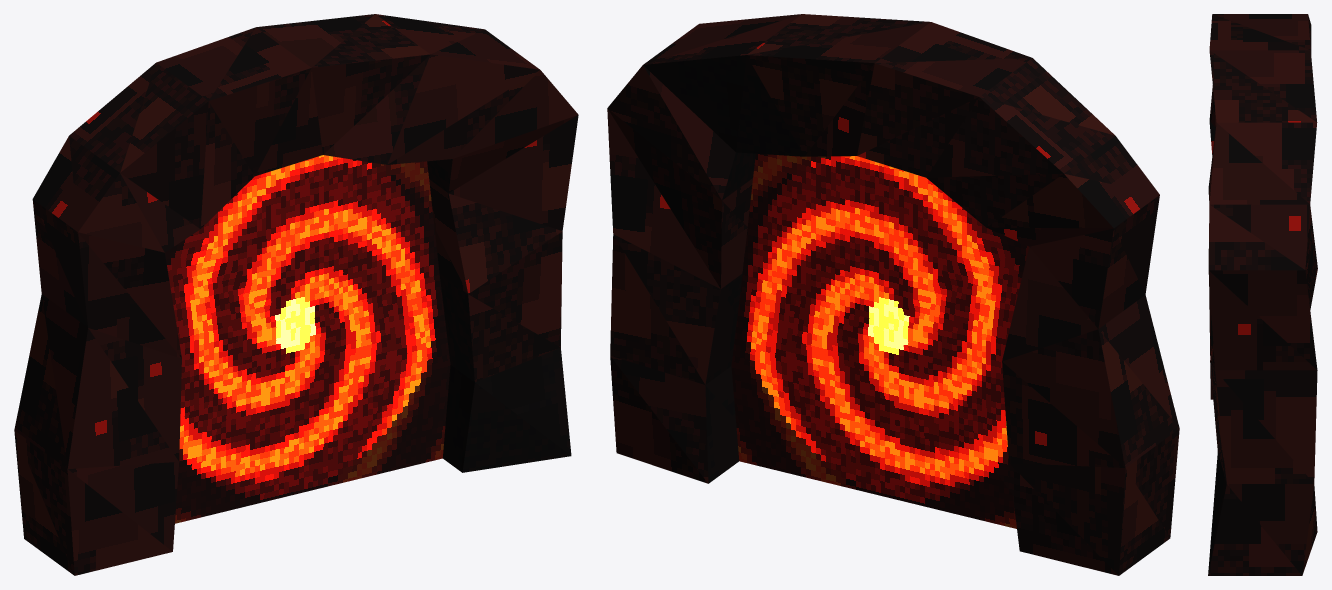
The model's file is portal.glb.
3 views of the same model, side by side, from view 1: azimuth 30°, elevation 25°; view 2: azimuth 150°, elevation 25°; view 3: azimuth 270°, elevation 25° (orthographic). The views are drawn at different scales.
Parts seen in each view (by area): view 1: Portal; view 2: Portal; view 3: Portal.
Boxes of the visible parts, x1=… form: Portal: x1=14, y1=14, x2=578, y2=575; Portal: x1=607, y1=14, x2=1179, y2=575; Portal: x1=1208, y1=14, x2=1317, y2=575.
Size of what is drawn, in the model's own units: 4.72 by 3.98 by 0.965.
Materials: 1 (1 with a texture image).
